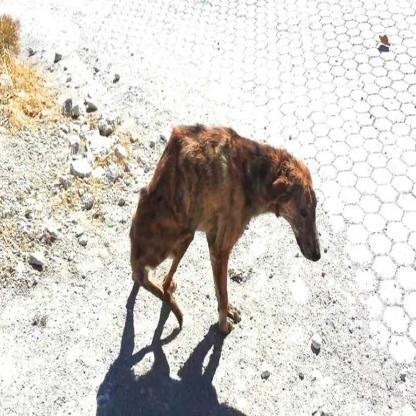dog: (89, 105, 342, 342)
injured: (126, 166, 204, 314)
